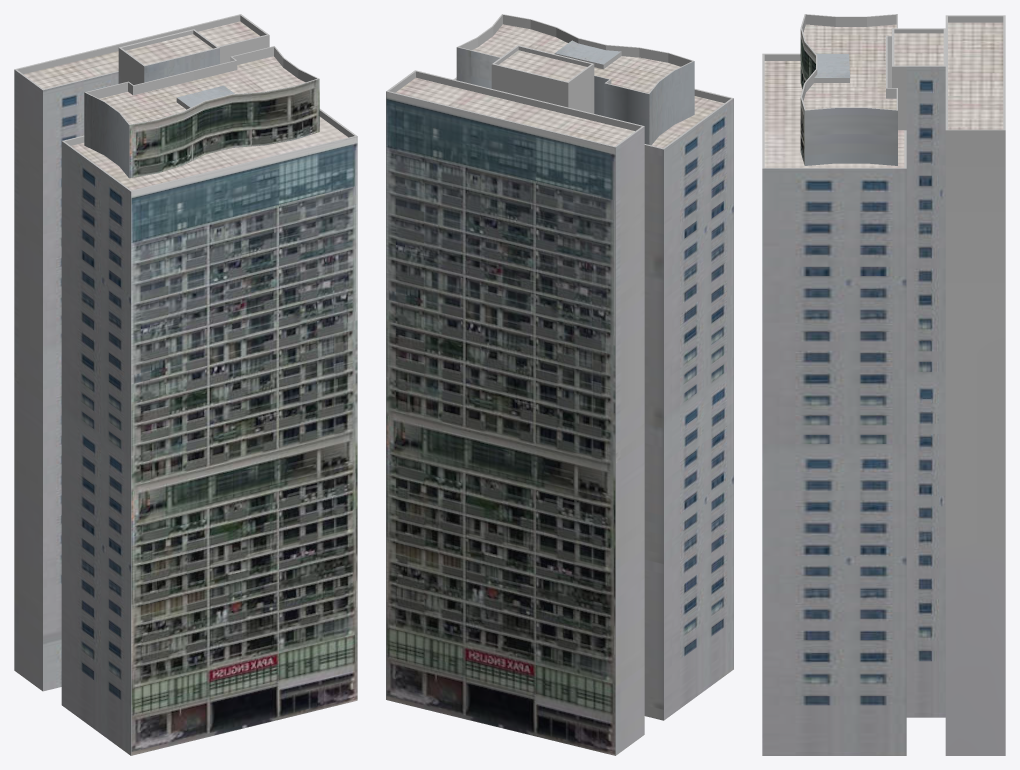
3 renders of one model, left to right at view 1: azimuth 30°, elevation 25°; view 2: azimuth 150°, elevation 25°; view 3: azimuth 270°, elevation 25°, orthographic. The views are drawn at different scales.
Visible parts, largest first — view 1: 5db2c8080318991ff86c2f7e; view 2: 5db2c8080318991ff86c2f7e; view 3: 5db2c8080318991ff86c2f7e.
Part boxes in pixels (x1=…): 5db2c8080318991ff86c2f7e: x1=14, y1=14, x2=357, y2=755; 5db2c8080318991ff86c2f7e: x1=386, y1=14, x2=733, y2=755; 5db2c8080318991ff86c2f7e: x1=762, y1=14, x2=1005, y2=755.
Bounding box in the file's own units: 37.86 × 99.75 × 33.77.
Materials: 1 (1 with a texture image).
